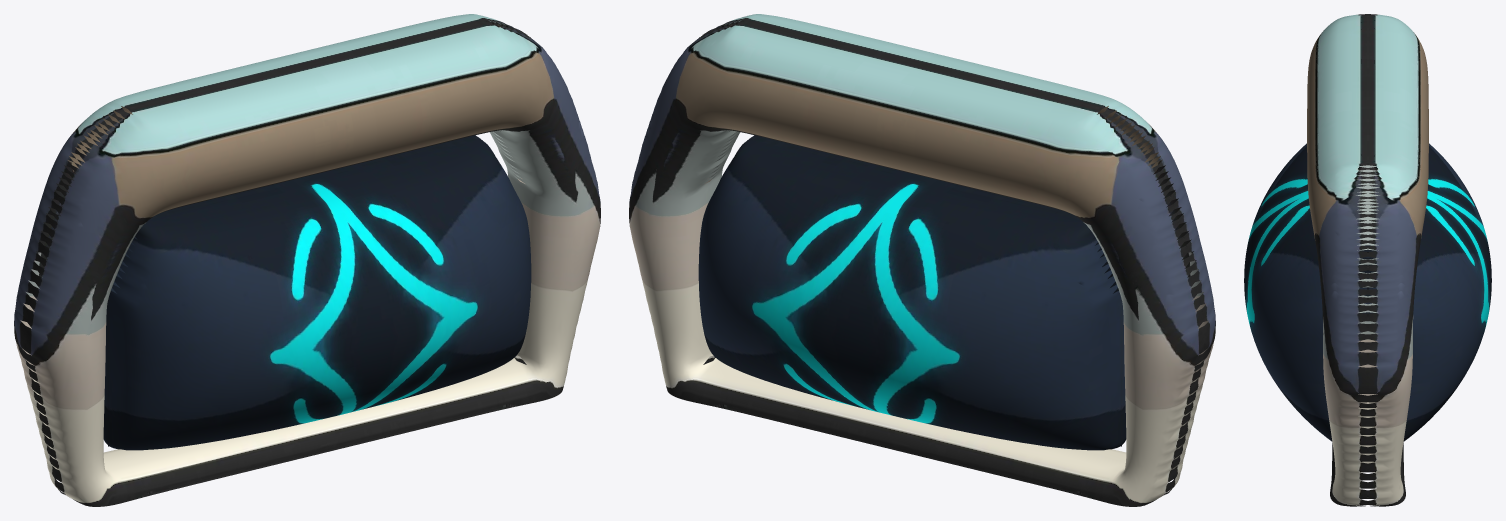
File: hatch_display.glb
3 views of the same model, side by side, from view 1: azimuth 30°, elevation 25°; view 2: azimuth 150°, elevation 25°; view 3: azimuth 270°, elevation 25° (orthographic). The views are drawn at different scales.
Visible parts, largest first — view 1: hatch_display; view 2: hatch_display; view 3: hatch_display.
Boxes of the visible parts, <box> form: hatch_display: <box>14,14,600,506</box>; hatch_display: <box>629,14,1215,506</box>; hatch_display: <box>1244,14,1491,506</box>.
Size of the model in its own units: 0.9889 by 0.6216 by 0.4409.
Materials: 1 (1 with a texture image).
